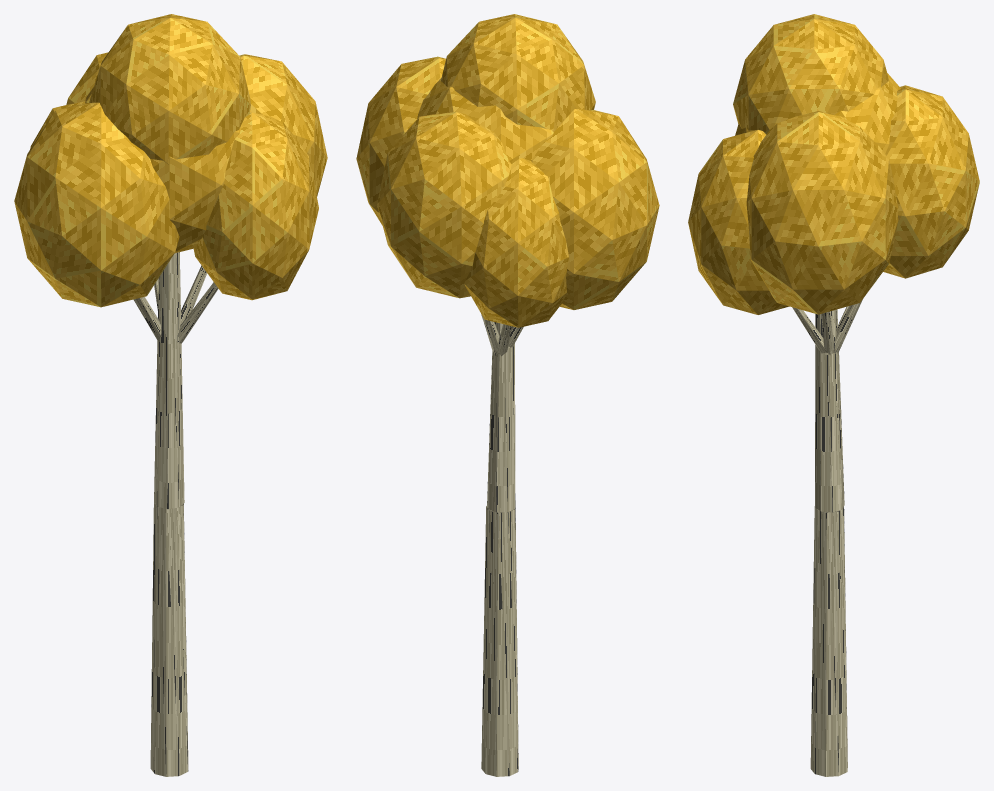
File: 08_abedul_otonal.glb
3 renders of one model, left to right at view 1: azimuth 30°, elevation 25°; view 2: azimuth 150°, elevation 25°; view 3: azimuth 270°, elevation 25°, orthographic.
Parts seen in each view (by area): view 1: world; view 2: world; view 3: world.
Boxes of the visible parts, bbox=[...] form: world: bbox=[14, 14, 327, 776]; world: bbox=[356, 14, 659, 776]; world: bbox=[688, 14, 979, 776].
Bounding box in the file's own units: 15.02 × 38 × 13.46.
1 material, 1 textured.
